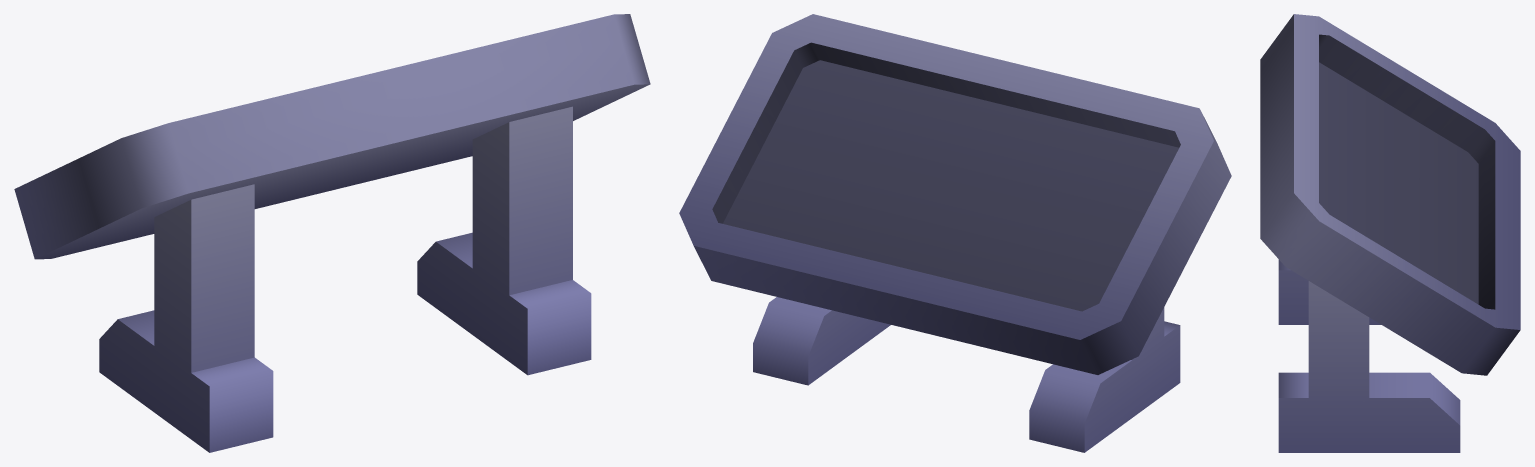
File: kenney-factory-screen-flat.glb
3 views of the same model, side by side, from view 1: azimuth 30°, elevation 25°; view 2: azimuth 150°, elevation 25°; view 3: azimuth 270°, elevation 25° (orthographic). The views are drawn at different scales.
Parts seen in each view (by area): view 1: screen-flat; view 2: screen-flat; view 3: screen-flat.
Boxes of the visible parts, bbox=[...] form: screen-flat: bbox=[14, 14, 650, 452]; screen-flat: bbox=[679, 14, 1231, 452]; screen-flat: bbox=[1260, 14, 1520, 452].
Size of the model in its own units: 1.8 by 1.12 by 0.9673.
Materials: 1 (1 with a texture image).
